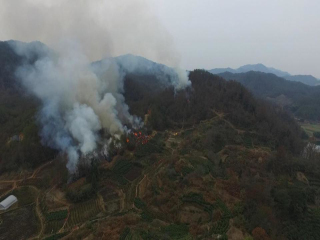smoke: (16, 12, 194, 180)
